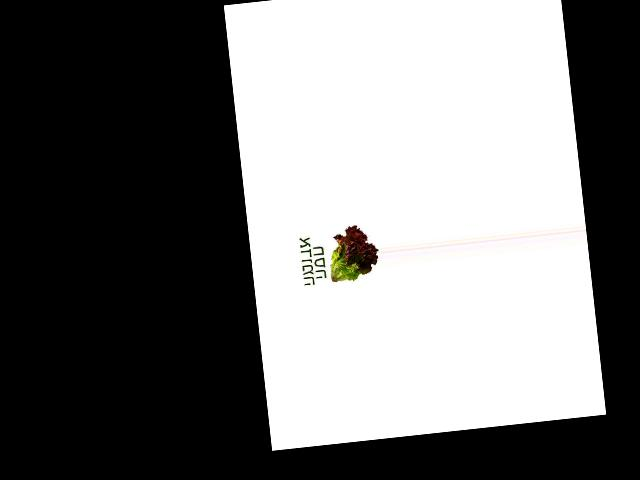lettuce: (323, 222, 381, 288)
